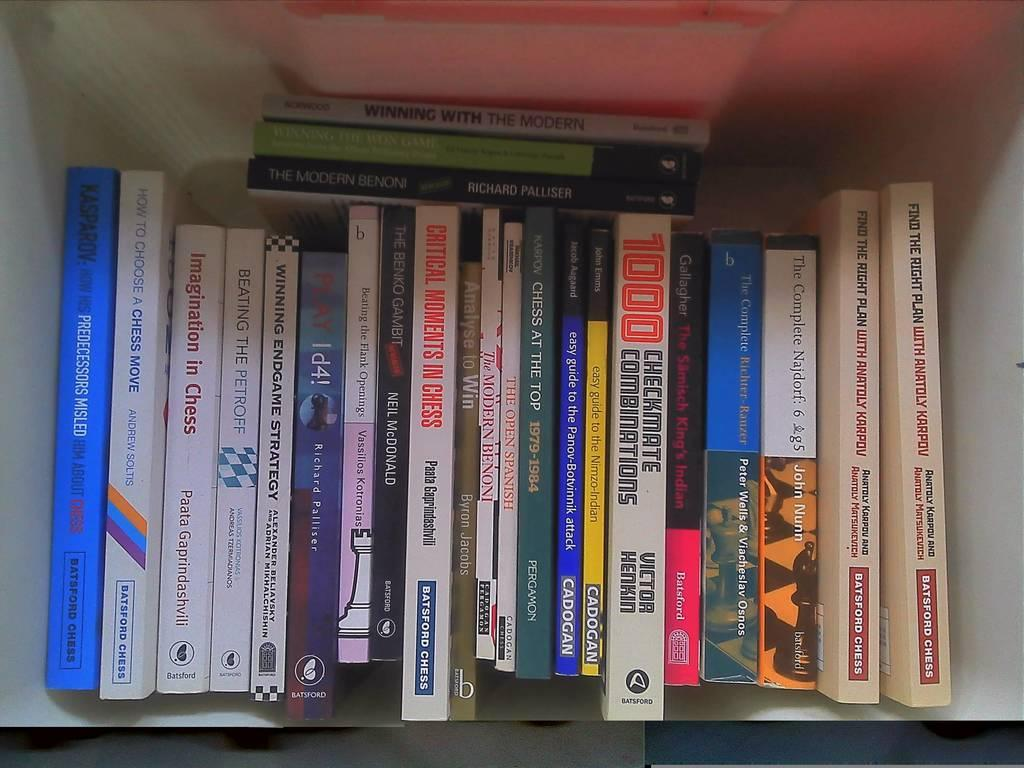book: (47, 108, 961, 728), (789, 188, 879, 704)
